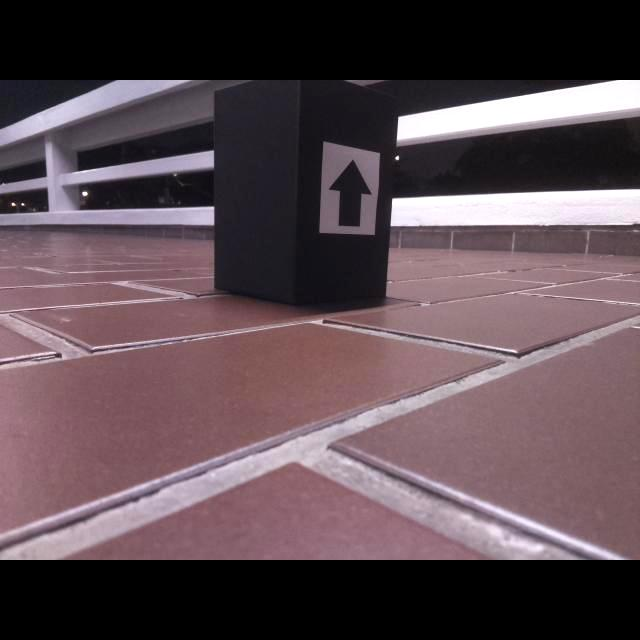UP: (327, 160, 373, 227)
